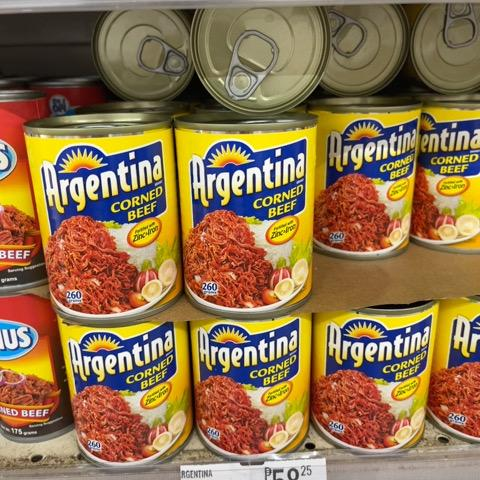canned-goods: (23, 112, 188, 324), (171, 106, 315, 322), (50, 301, 200, 475), (190, 5, 332, 120)
